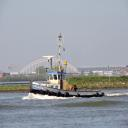tugboat: (30, 34, 106, 101)
